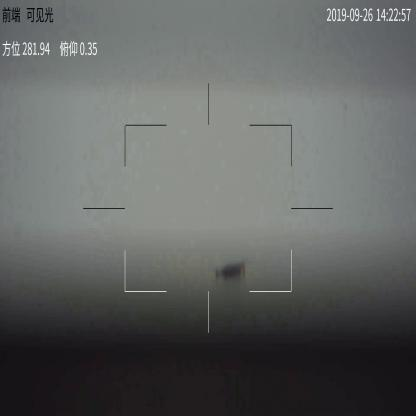uav: (211, 258, 249, 286)
